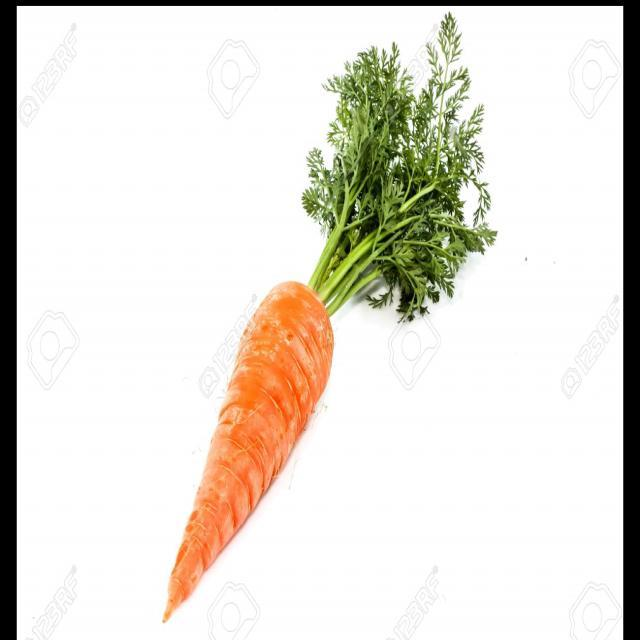Carrot: (168, 279, 334, 622)
